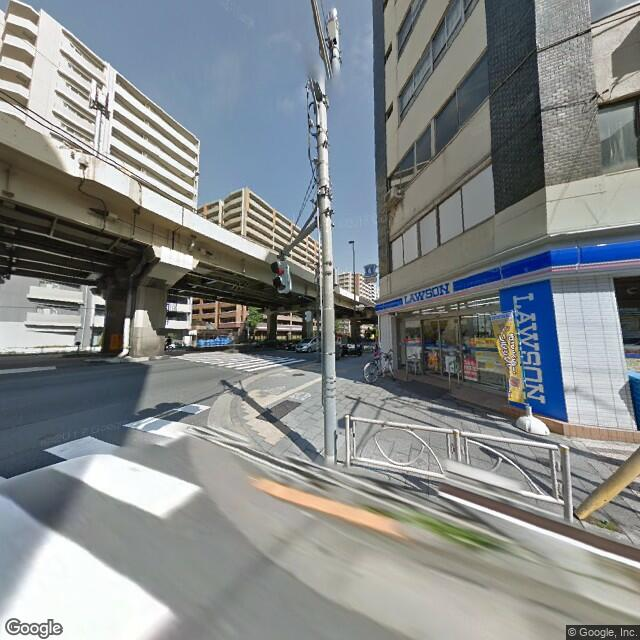lawson: (373, 230, 639, 317), (509, 284, 551, 403), (359, 258, 378, 280)
